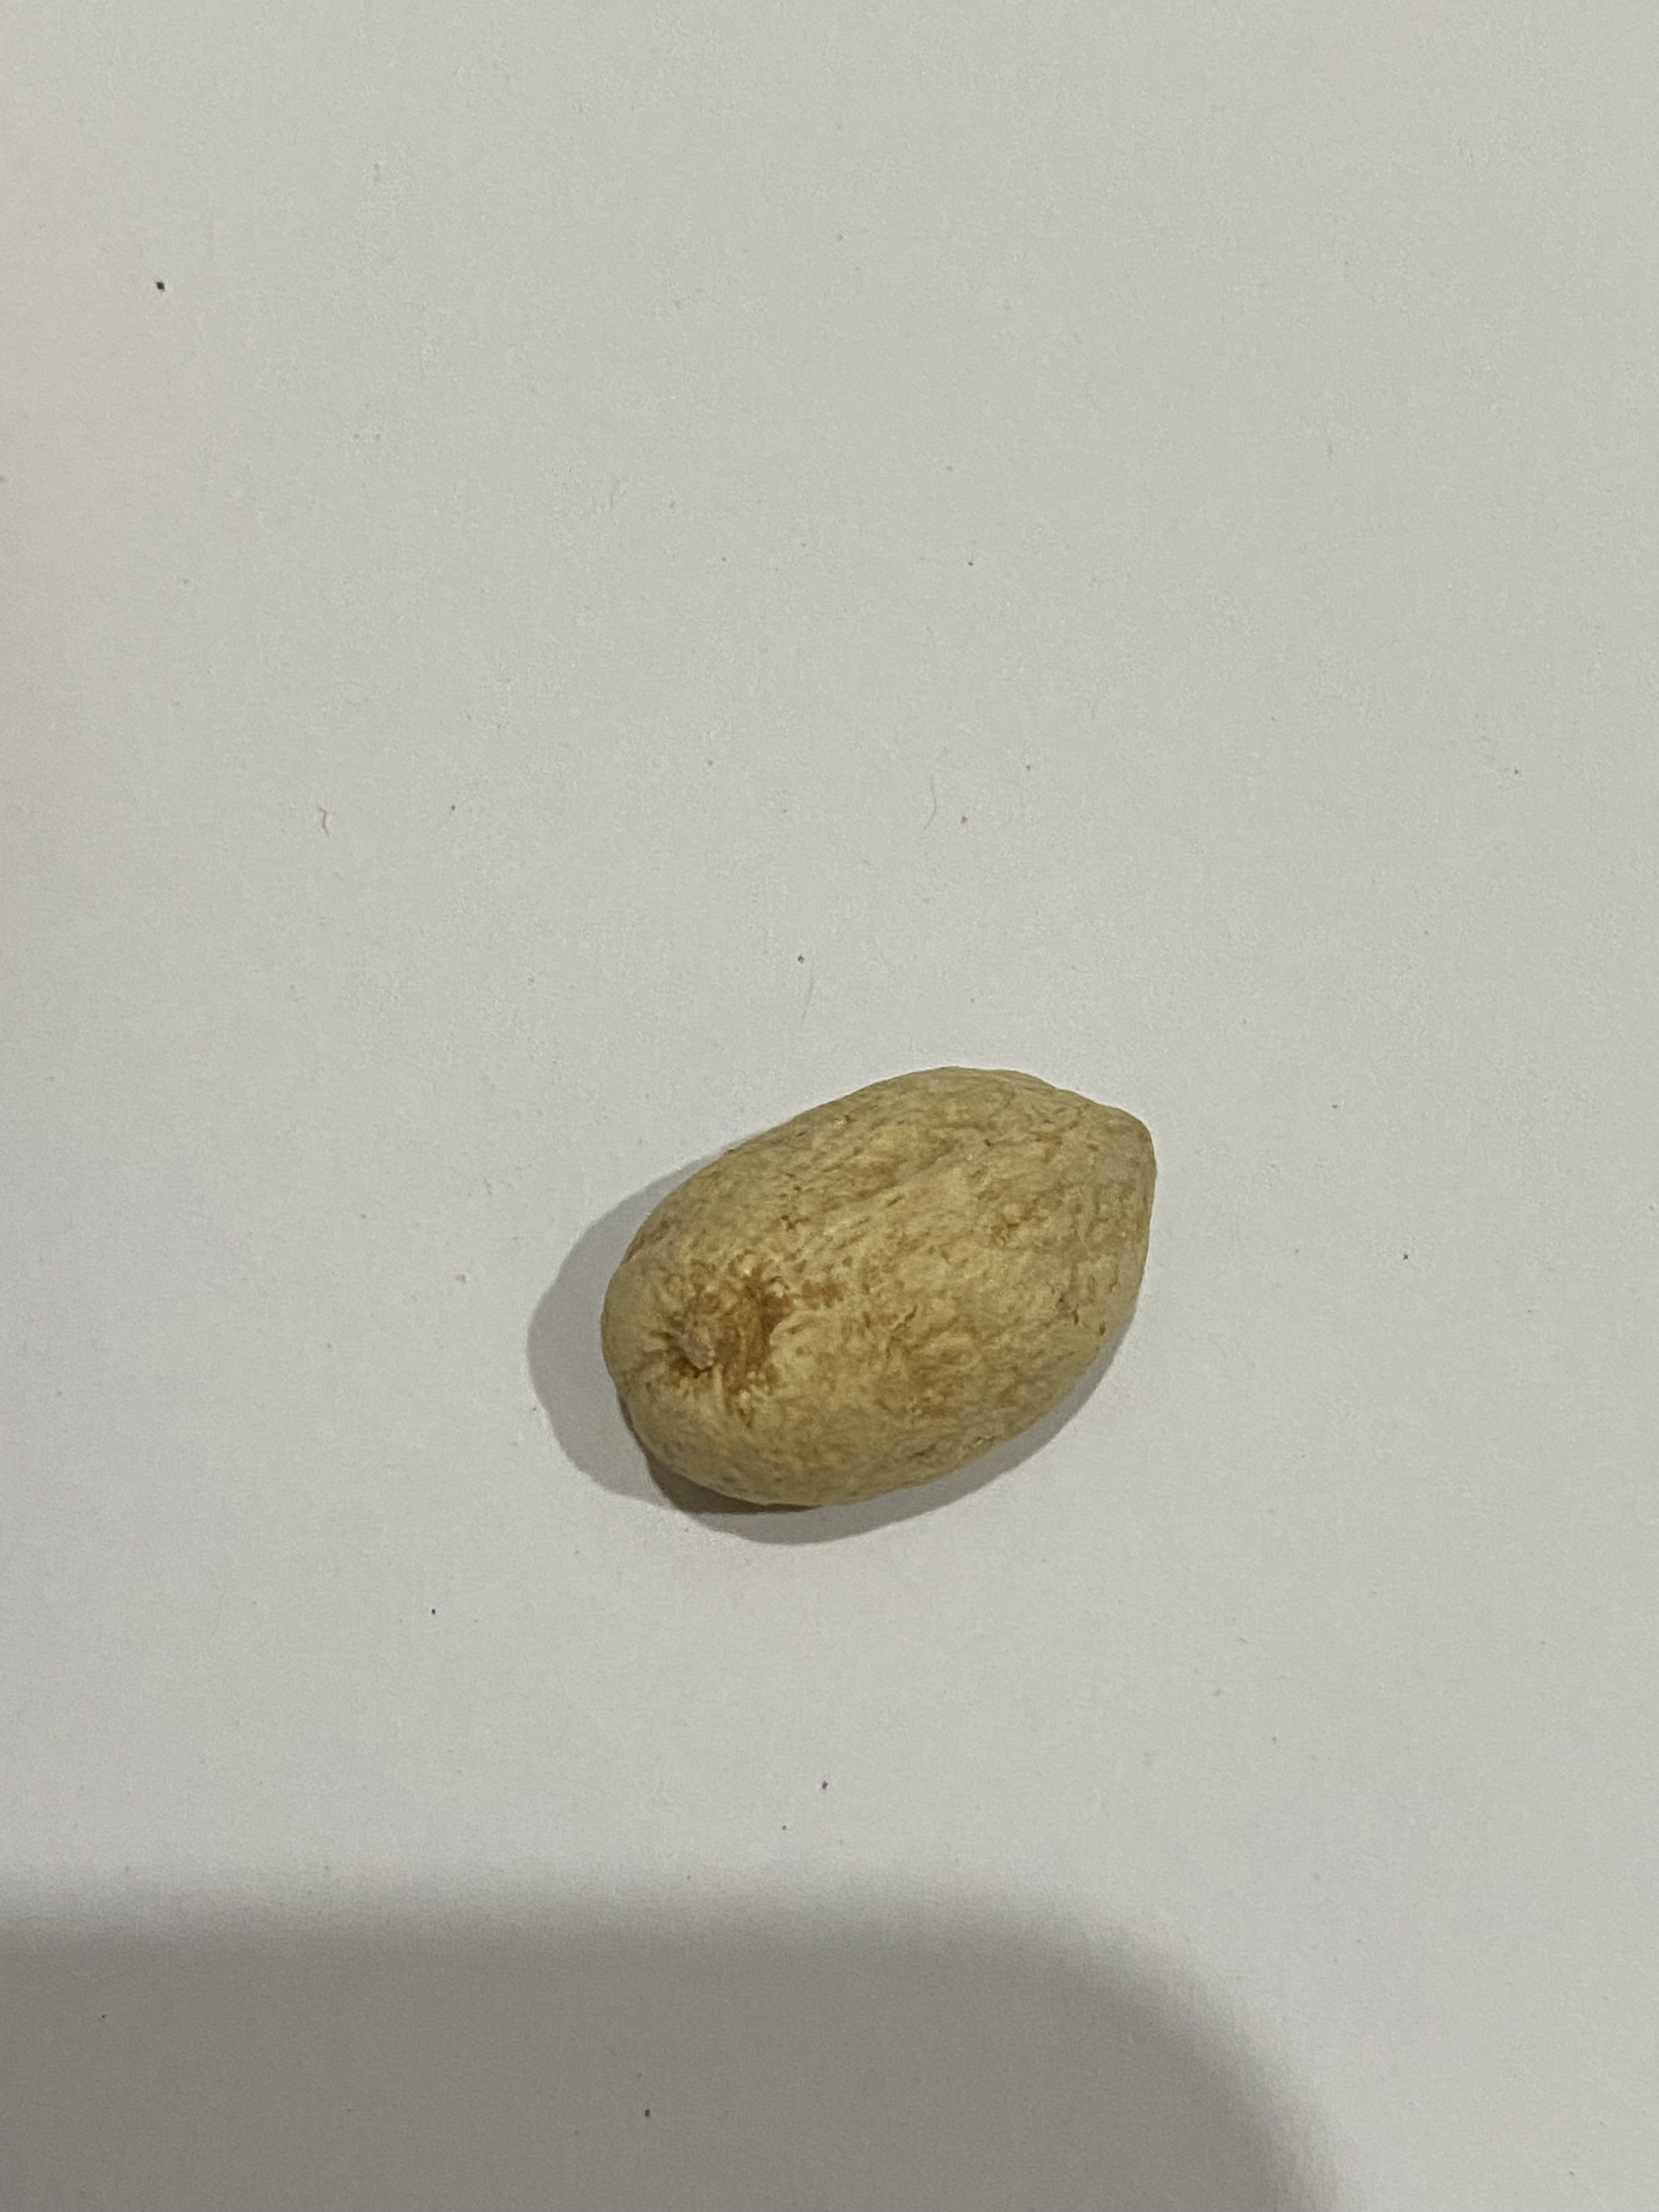kacang1: (519, 1026, 1171, 1510)
